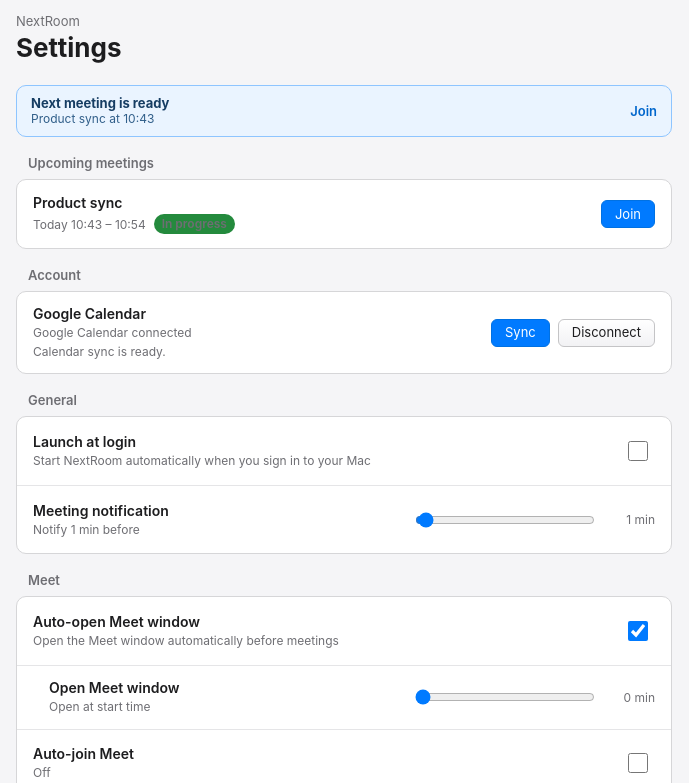
Scenario: App › renders thrown preload errors
Click the button "Next meeting is ready Product sync at 10:43 Join": click(100, 103) [16,85,672,137]
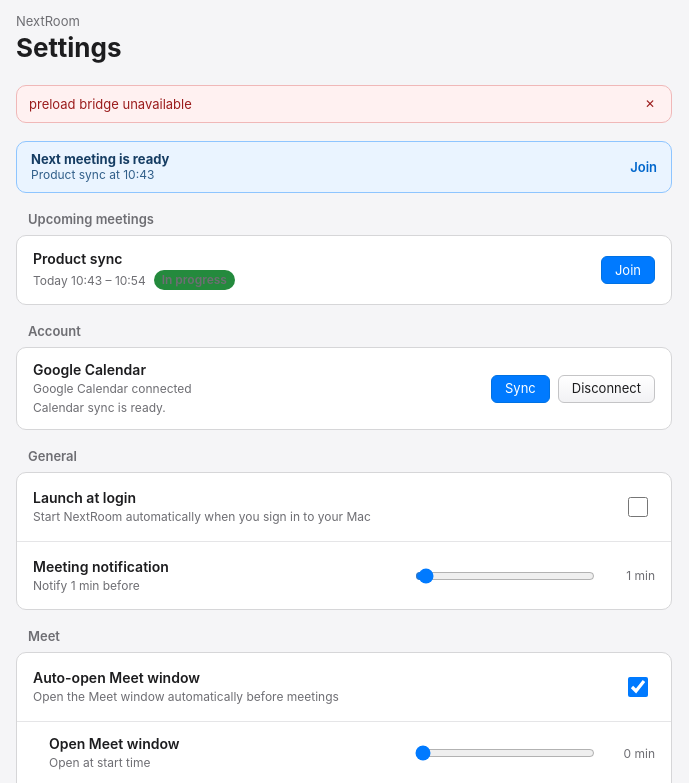
Expected: the text "preload bridge unavailable" is shown, [29,96,192,112]
